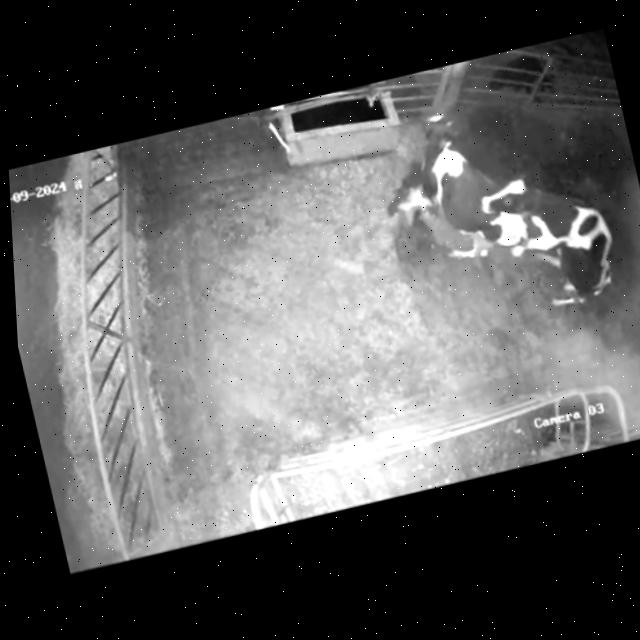ride: (466, 137, 638, 342)
stand: (377, 87, 535, 298)
